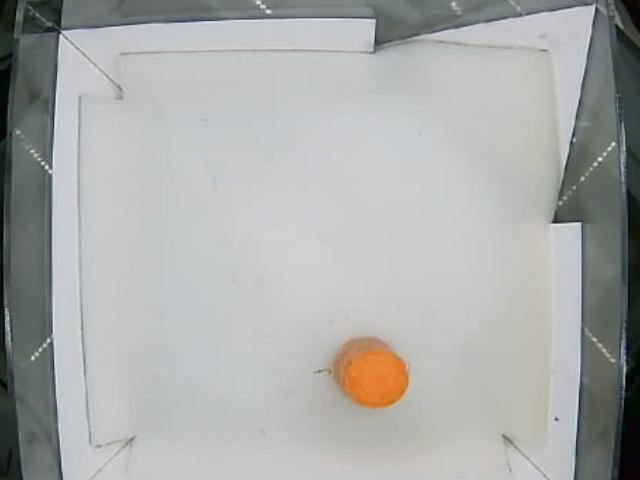Carrot: (334, 336, 407, 410)
